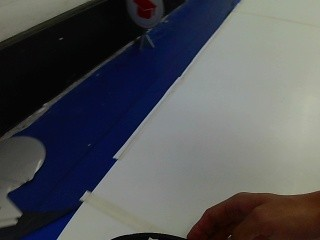school: (123, 0, 163, 29)
